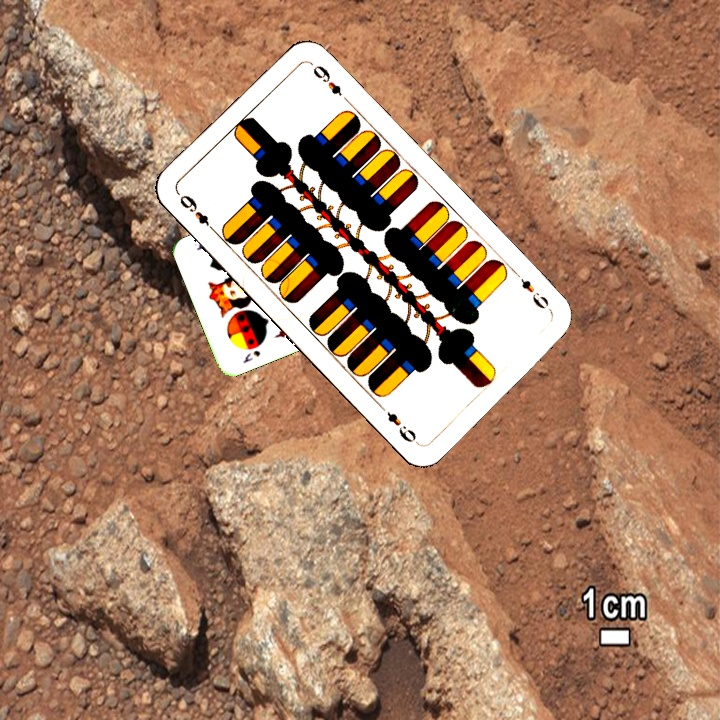E9: (511, 268, 555, 316), (175, 190, 220, 236)
SK: (239, 346, 263, 366)
